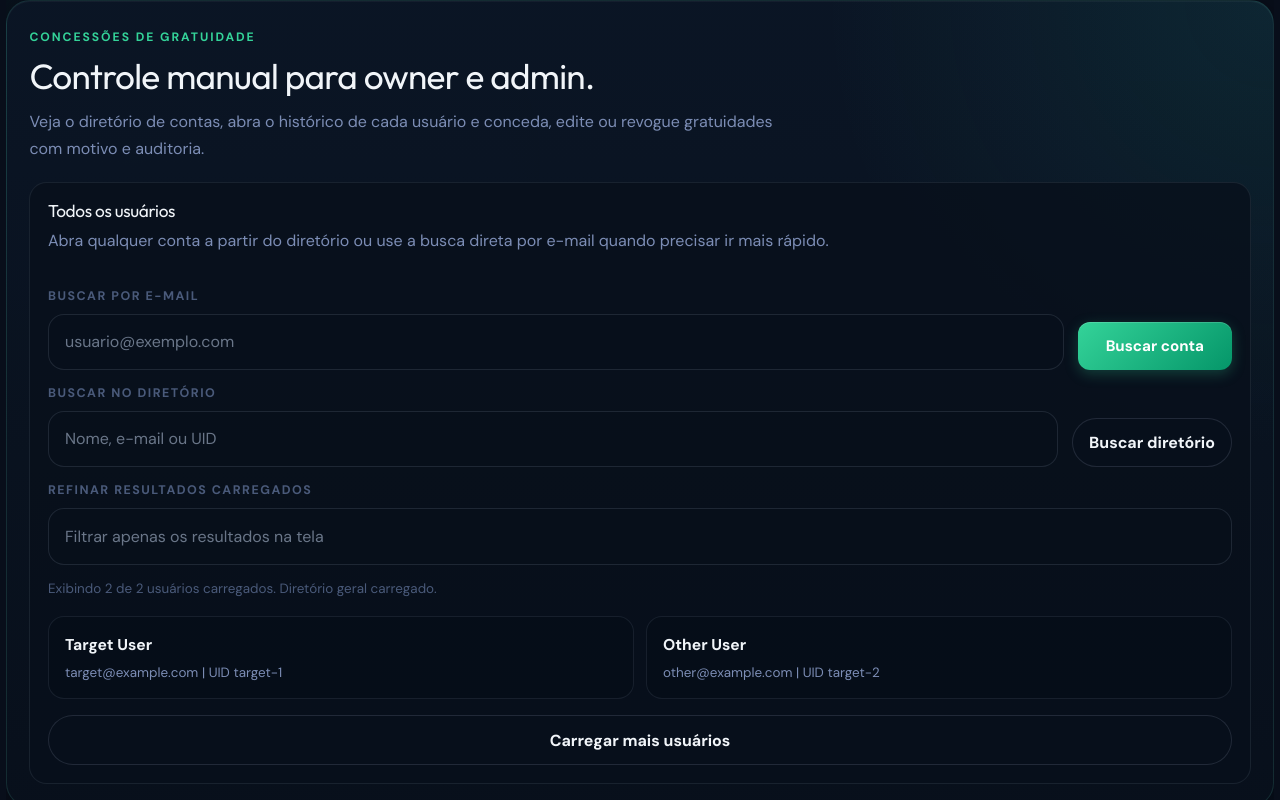
Test: BillingManualGrantsConsole › filters the loaded directory locally without another request
The image size is (1280, 800).
Expected: the text "Target User" is shown, x1=65 y1=634 x2=152 y2=655
Expected: the text "Other User" is shown, x1=663 y1=634 x2=746 y2=655
Step 1. Type "other" into the search field labelled "Refinar resultados carregados" → (640, 536), box x1=48 y1=508 x2=1232 y2=565
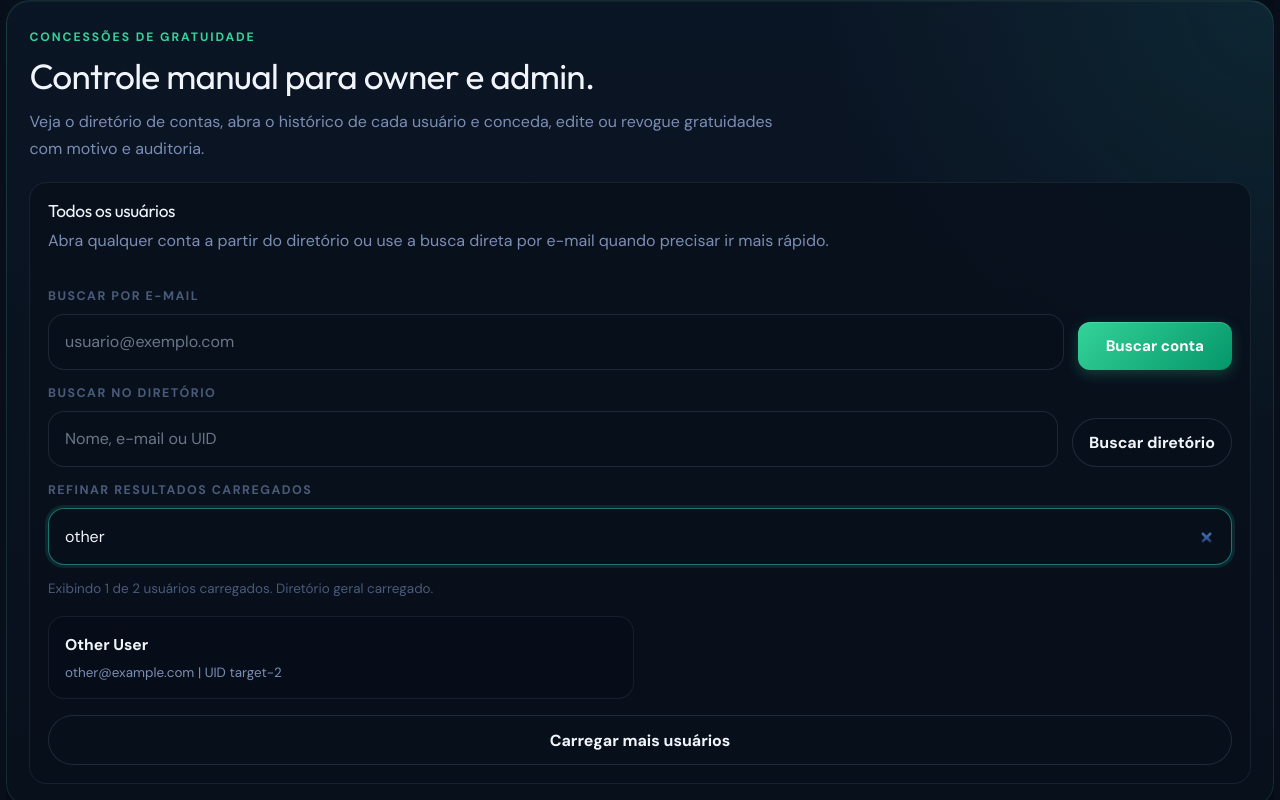
Expected: the text "Other User" is shown, x1=65 y1=634 x2=148 y2=655
Now the button "Target User" is gone
